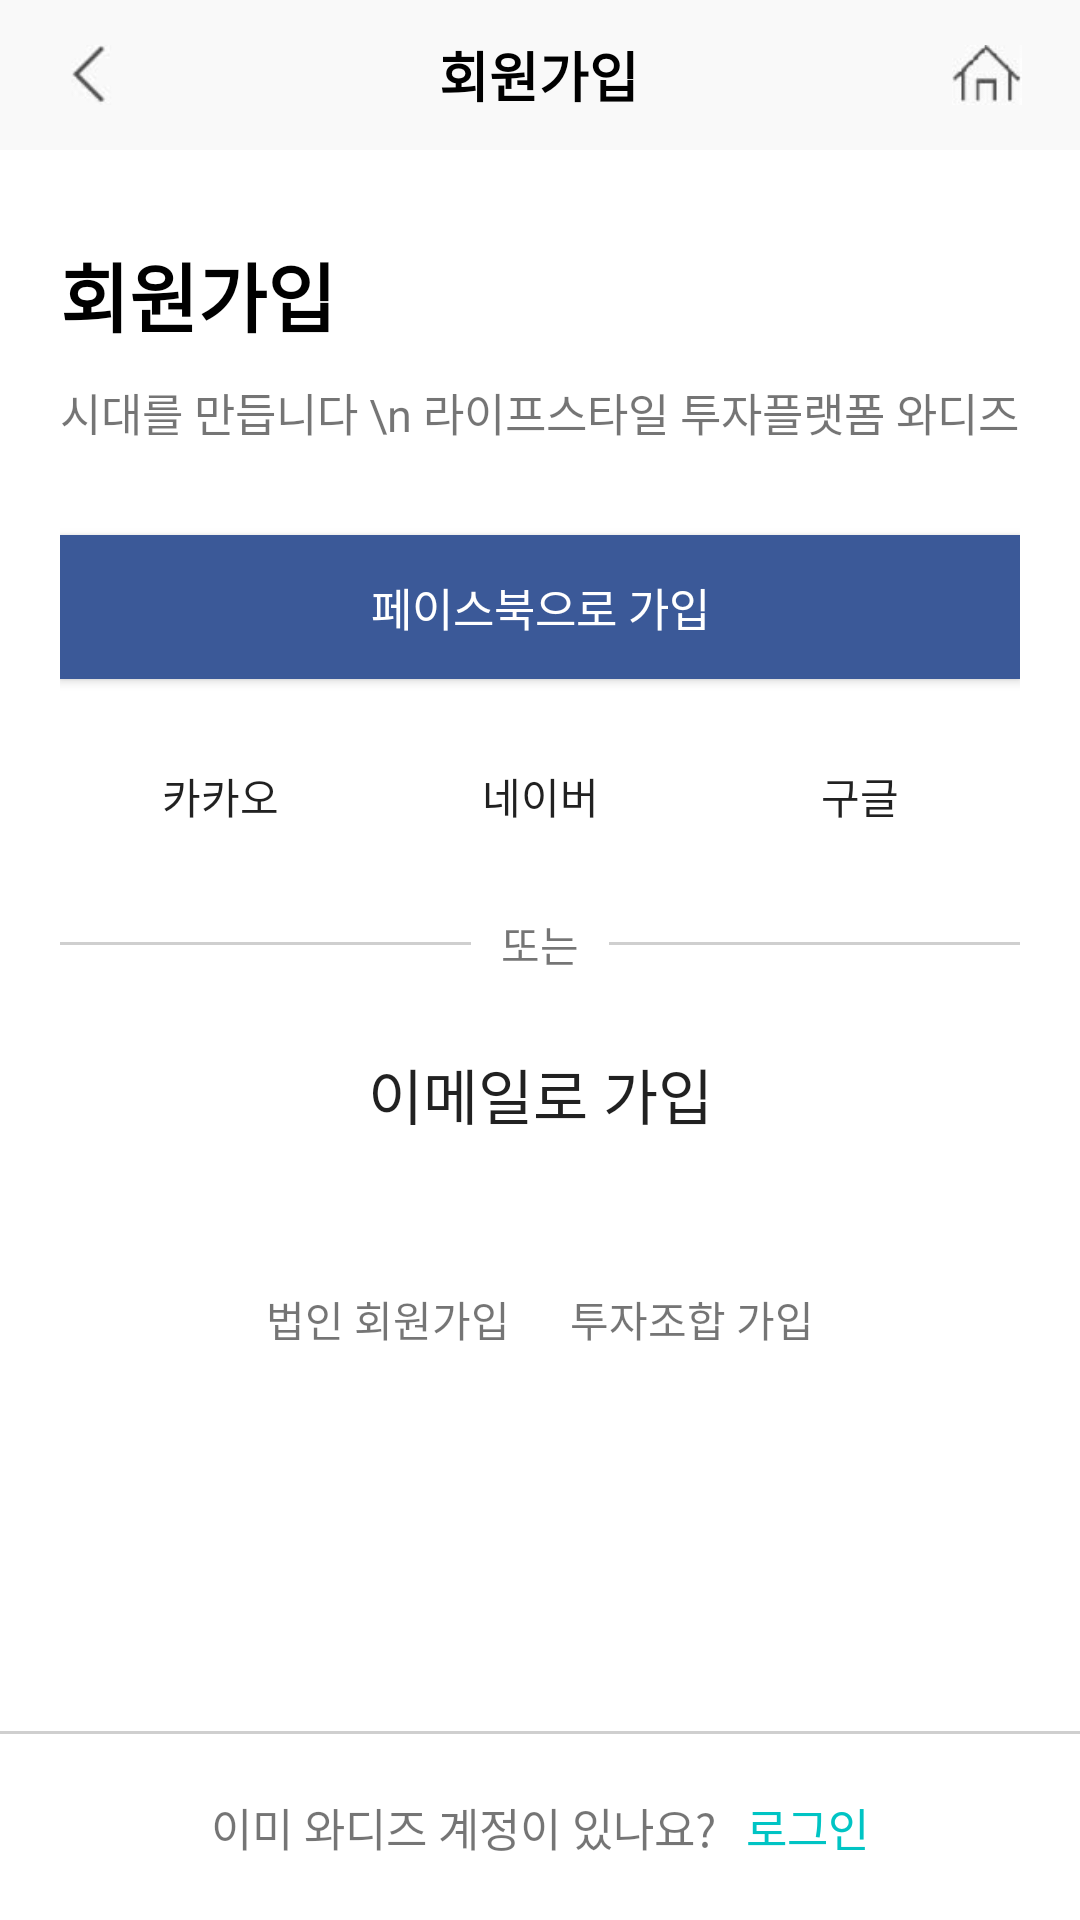

Locate icon controls on the screen. Image size 1080 x 1920, boxes as [x1, y1, x2, y2].
back: [73, 46, 105, 102]
home: [953, 45, 1020, 102]
